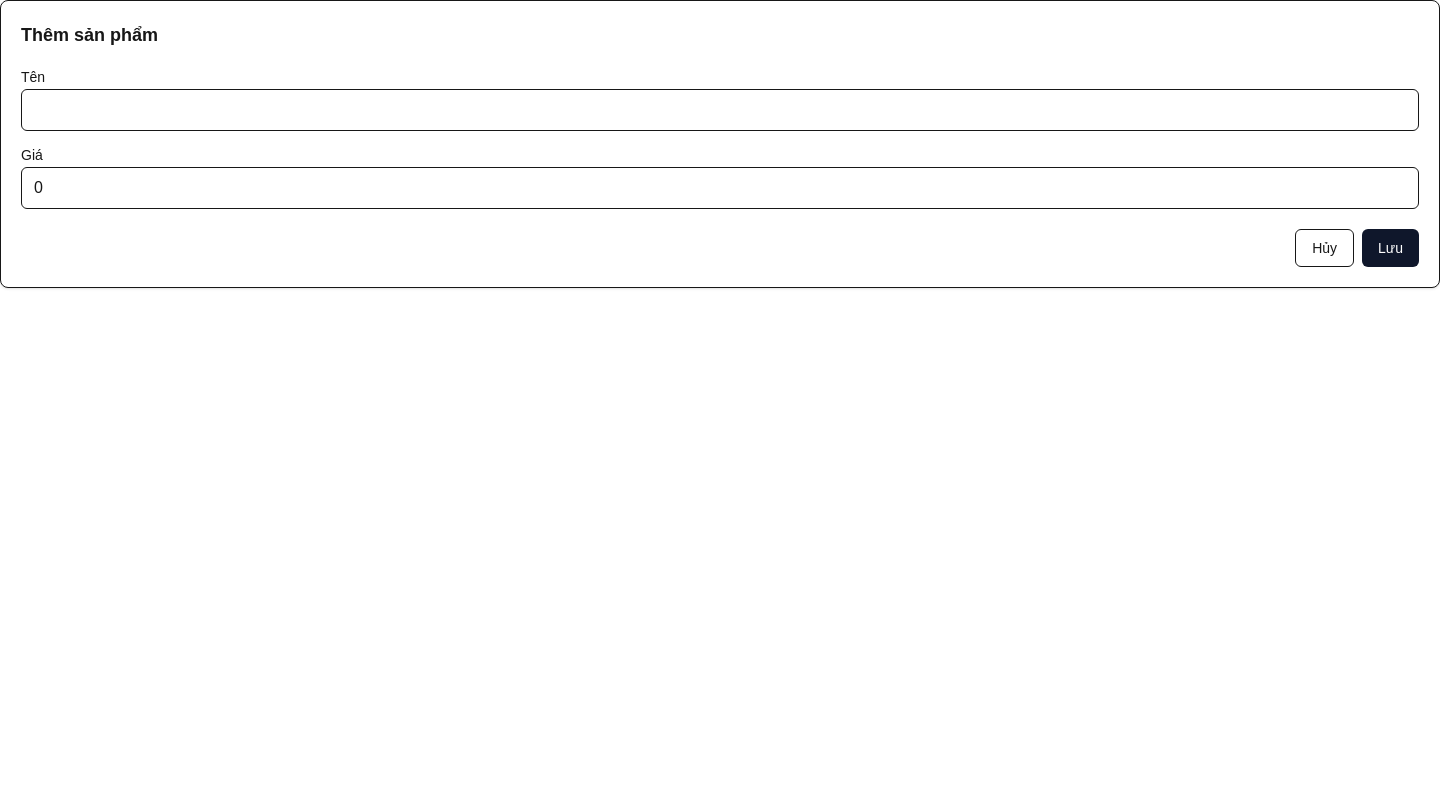
Test: ResourceForm › places a server VALIDATION_ERROR on the offending field
Type "Coca" into the field labelled "Tên" at point(720, 110), box [21,89,1419,131]
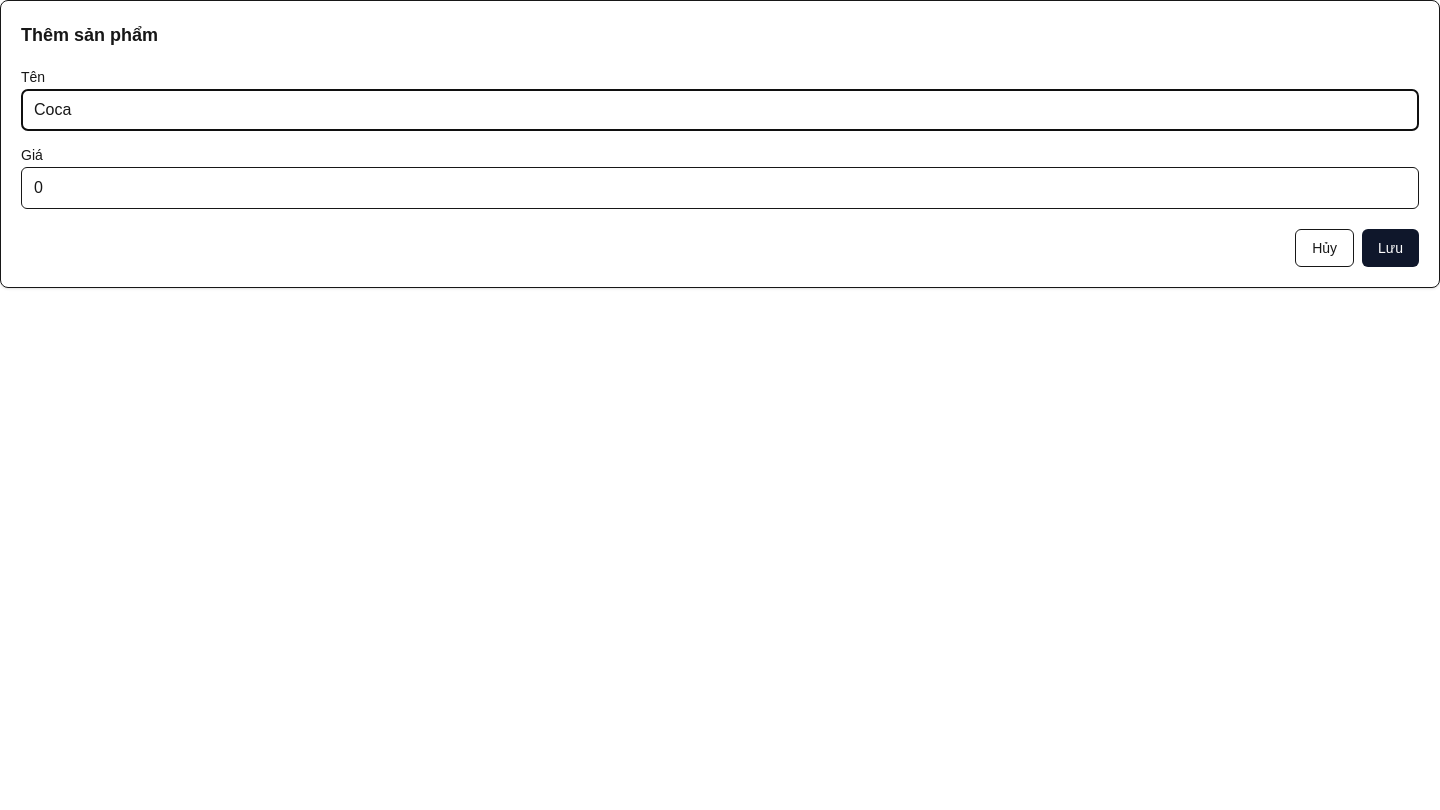
Click the button "Lưu" at point(1390, 248), box [1362,229,1419,267]
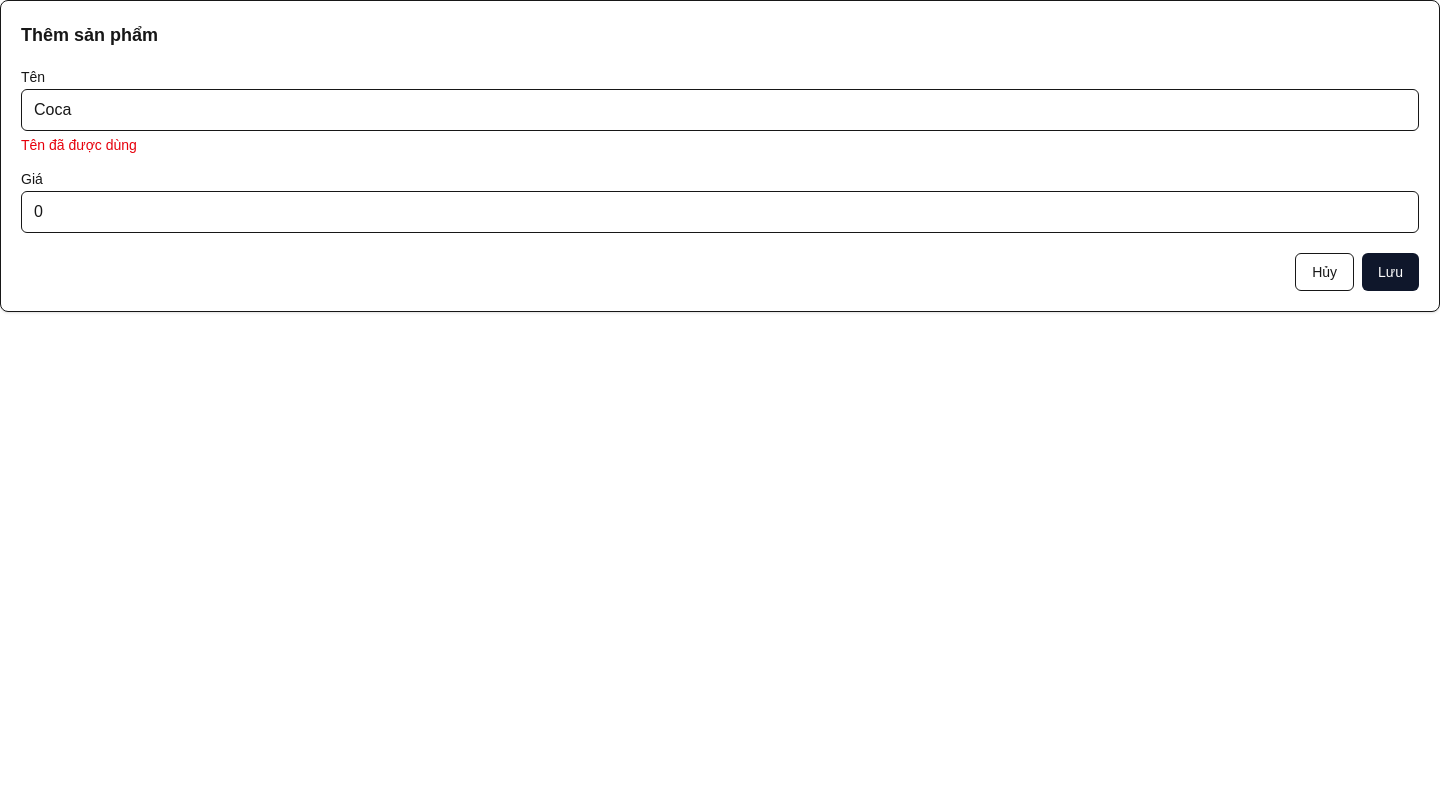
Now the text "Tên đã được dùng" is shown, box [21,137,137,153]
